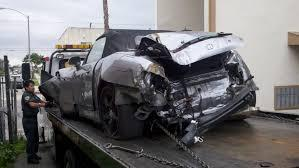rear-bumper-dent: (156, 80, 235, 119)
